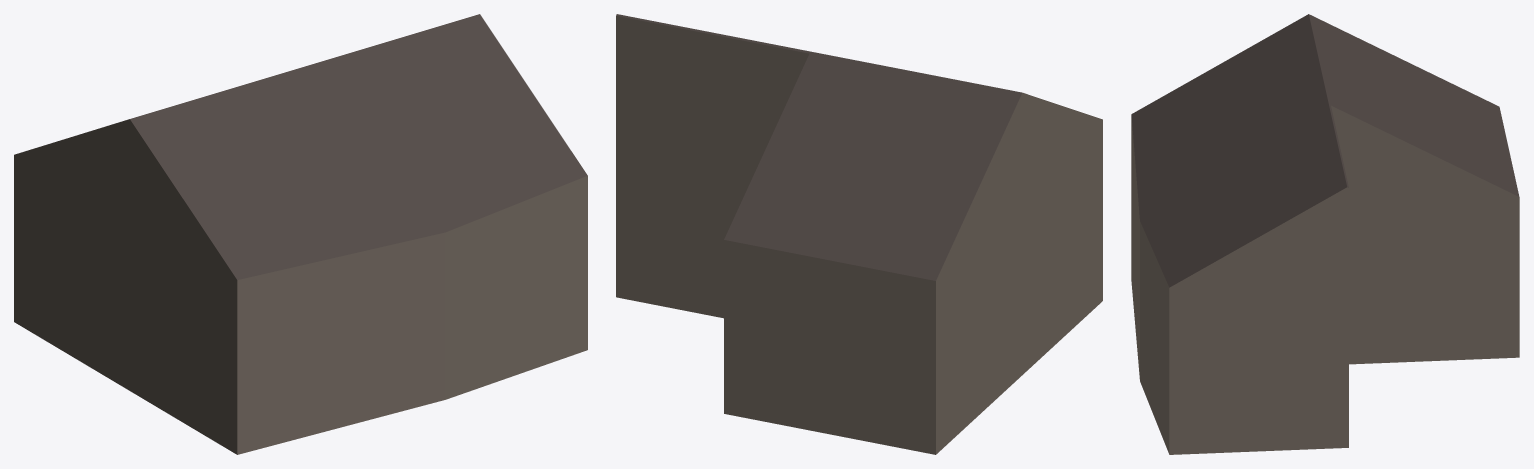
3 views of the same model, side by side, from view 1: azimuth 30°, elevation 25°; view 2: azimuth 150°, elevation 25°; view 3: azimuth 270°, elevation 25° (orthographic). The views are drawn at different scales.
Visible parts, largest first — view 1: HP-w1376988824; view 2: HP-w1376988824; view 3: HP-w1376988824.
Boxes of the visible parts, x1=… form: HP-w1376988824: x1=14, y1=14, x2=587, y2=454; HP-w1376988824: x1=616, y1=14, x2=1102, y2=454; HP-w1376988824: x1=1131, y1=14, x2=1519, y2=454.
Bounding box in the file's own units: 15.06 × 9.75 × 13.15.
